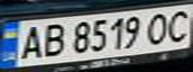1: (106, 16, 127, 51)
5: (87, 16, 112, 53)
8: (69, 18, 93, 55)
9: (121, 12, 148, 50)
A: (12, 24, 48, 61)
B: (36, 20, 69, 58)
C: (160, 7, 193, 44)
O: (142, 10, 172, 46)
